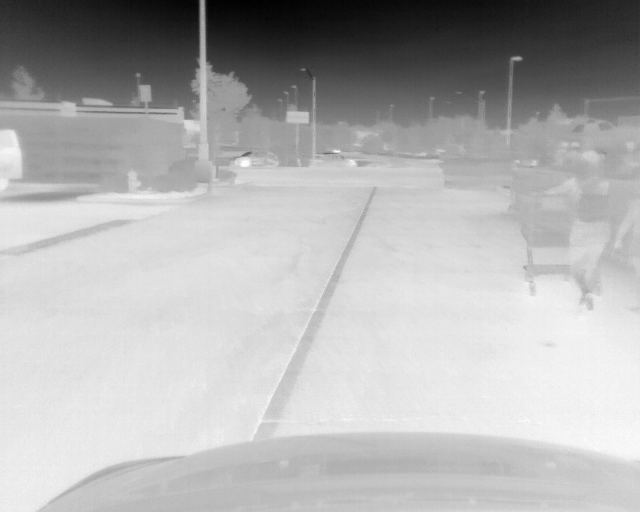car: (231, 148, 278, 168), (308, 150, 356, 167)
people: (544, 147, 614, 311), (620, 194, 640, 315), (622, 143, 640, 180)
